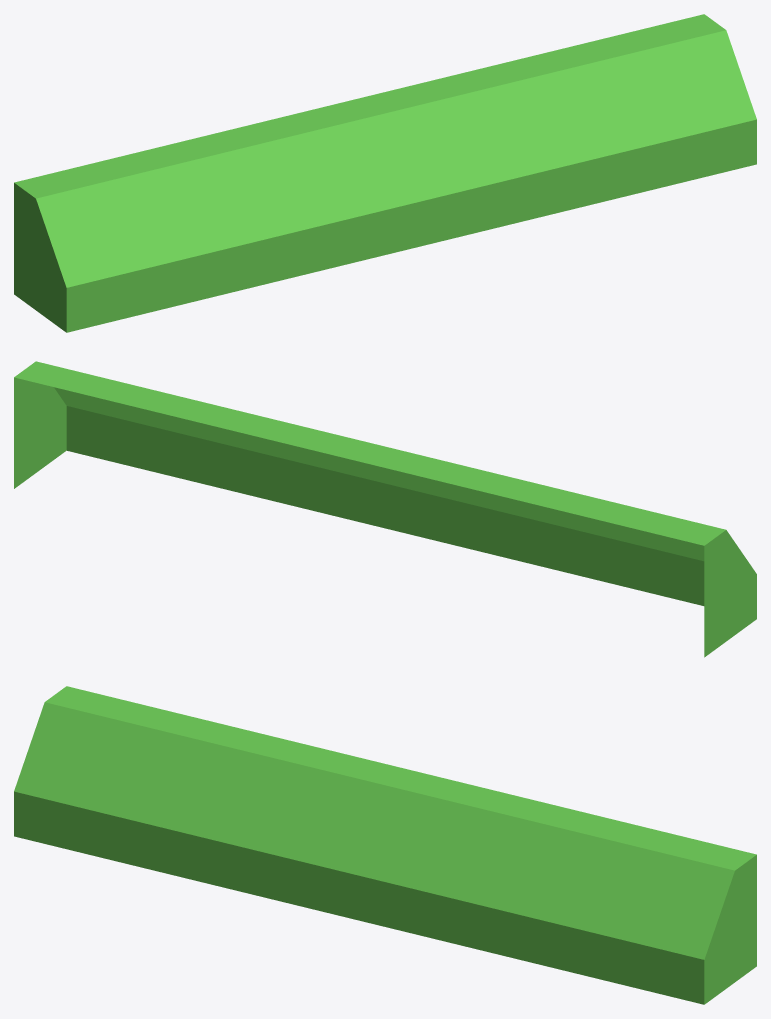
The model's file is Town_Bld-Med_Obj_AwningA.FBX.
3 renders of one model, top to bottom at view 1: azimuth 30°, elevation 25°; view 2: azimuth 150°, elevation 25°; view 3: azimuth 330°, elevation 25°, orthographic.
Parts seen in each view (by area): view 1: Town_Bld-Med_Obj_AwningA; view 2: Town_Bld-Med_Obj_AwningA; view 3: Town_Bld-Med_Obj_AwningA.
Part boxes in pixels (x1,y1,x2,y2): Town_Bld-Med_Obj_AwningA: [14, 14, 756, 332]; Town_Bld-Med_Obj_AwningA: [14, 361, 756, 657]; Town_Bld-Med_Obj_AwningA: [14, 686, 756, 1004].
Bounding box in the file's own units: 545 × 84.27 × 71.86.
